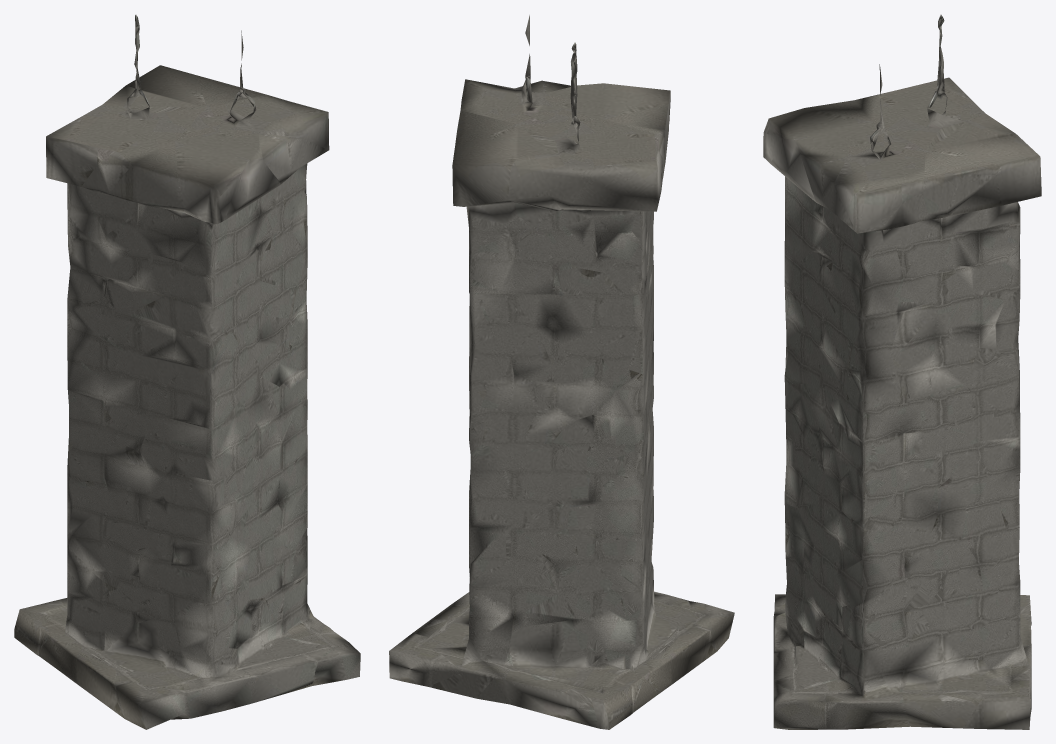
File: t_duvar.glb
3 views of the same model, side by side, from view 1: azimuth 30°, elevation 25°; view 2: azimuth 150°, elevation 25°; view 3: azimuth 270°, elevation 25° (orthographic).
Visible parts, largest first — view 1: kok; view 2: kok; view 3: kok.
Boxes of the visible parts, <box> form: kok: <box>14,14,360,729</box>; kok: <box>389,15,734,729</box>; kok: <box>763,14,1041,729</box>.
Bounding box in the file's own units: 1.4 × 3.6 × 1.41.
1 material, 1 textured.
